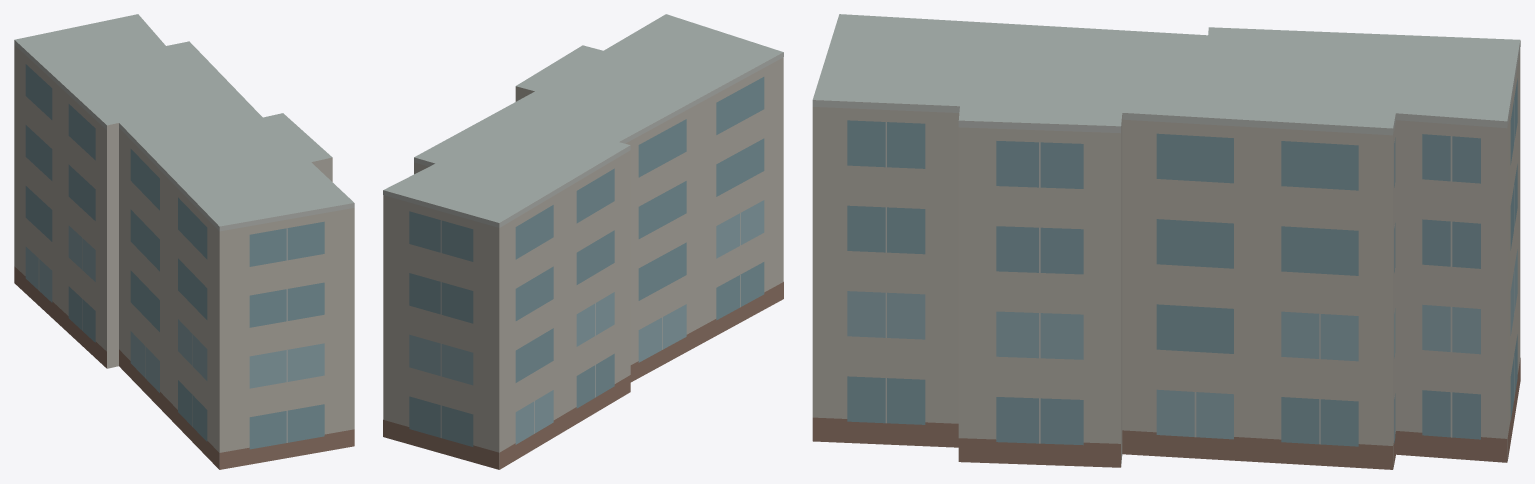
Rendered from survey-upis-32802420.glb.
3 views of the same model, side by side, from view 1: azimuth 30°, elevation 25°; view 2: azimuth 150°, elevation 25°; view 3: azimuth 270°, elevation 25° (orthographic). The views are drawn at different scales.
Parts seen in each view (by area): view 1: survey-upis-32802420.tmp; view 2: survey-upis-32802420.tmp; view 3: survey-upis-32802420.tmp.
Boxes of the visible parts, x1,y1,x2,y2 form: survey-upis-32802420.tmp: [14, 14, 354, 469]; survey-upis-32802420.tmp: [383, 14, 783, 469]; survey-upis-32802420.tmp: [812, 14, 1520, 469].
Size of the model in its own units: 8.71 by 12.1 by 22.75.
